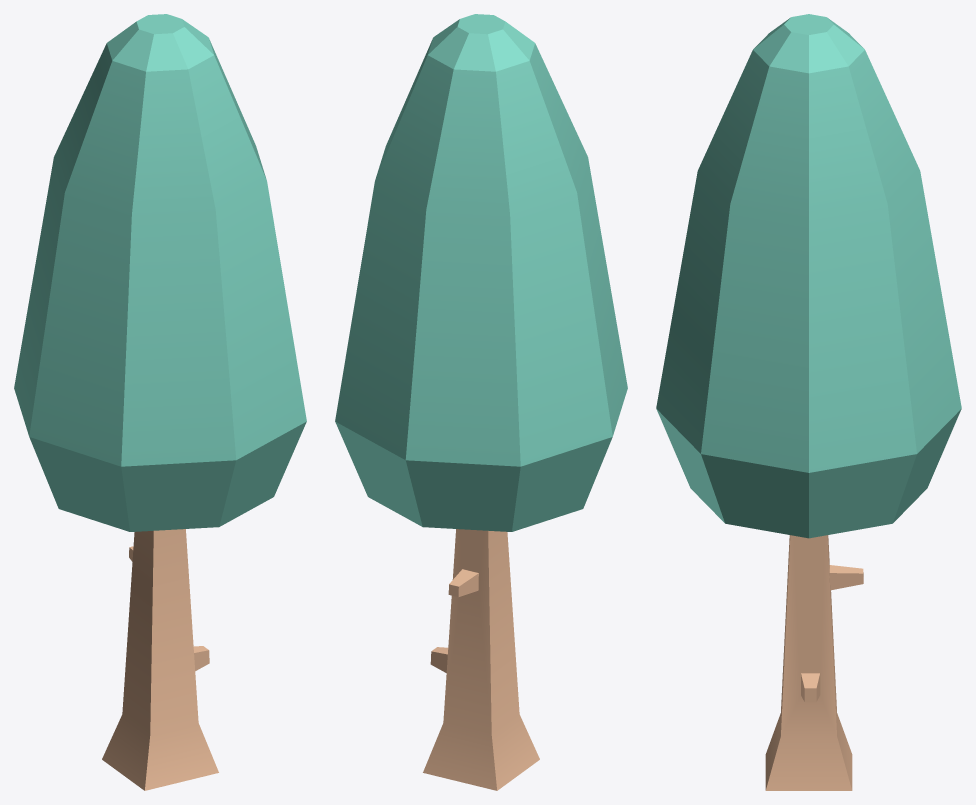
3 renders of one model, left to right at view 1: azimuth 30°, elevation 25°; view 2: azimuth 150°, elevation 25°; view 3: azimuth 270°, elevation 25°, orthographic.
Visible parts, largest first — view 1: Mesh treeHighRound_1, Mesh treeHighRound_0; view 2: Mesh treeHighRound_1, Mesh treeHighRound_0; view 3: Mesh treeHighRound_1, Mesh treeHighRound_0.
Part boxes in pixels (x1,y1,x2,y2): Mesh treeHighRound_1: (14,14,306,531); Mesh treeHighRound_0: (102,529,218,790); Mesh treeHighRound_1: (335,14,627,531); Mesh treeHighRound_0: (423,529,539,790); Mesh treeHighRound_1: (656,14,961,538); Mesh treeHighRound_0: (765,535,863,790).
Bounding box in the file's own units: 1.02 × 2.75 × 1.02.
